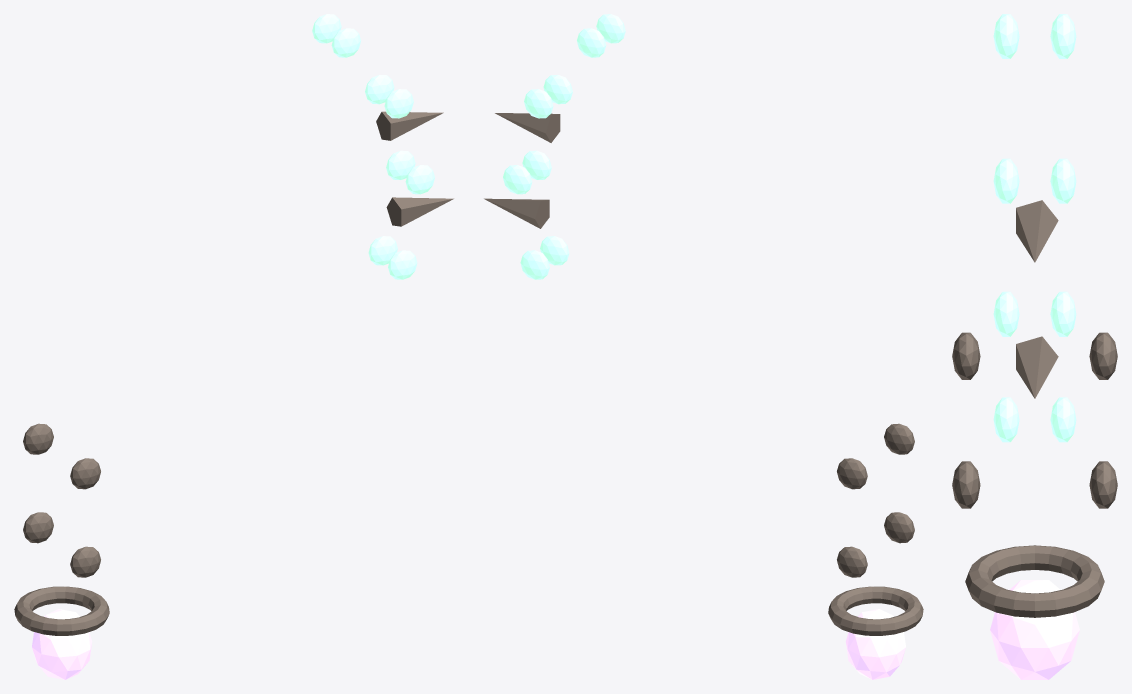
The model's file is weapon_sickle-decor.glb.
3 renders of one model, left to right at view 1: azimuth 30°, elevation 25°; view 2: azimuth 150°, elevation 25°; view 3: azimuth 270°, elevation 25°, orthographic. The views are drawn at different scales.
Parts seen in each view (by area): view 1: weapon_sickle_decor; view 2: weapon_sickle_decor; view 3: weapon_sickle_decor.
Boxes of the visible parts, bbox=[...] form: weapon_sickle_decor: bbox=[14, 14, 453, 679]; weapon_sickle_decor: bbox=[484, 14, 923, 679]; weapon_sickle_decor: bbox=[952, 14, 1117, 679].
Bounding box in the file's own units: 0.6165 × 0.801 × 0.14.
